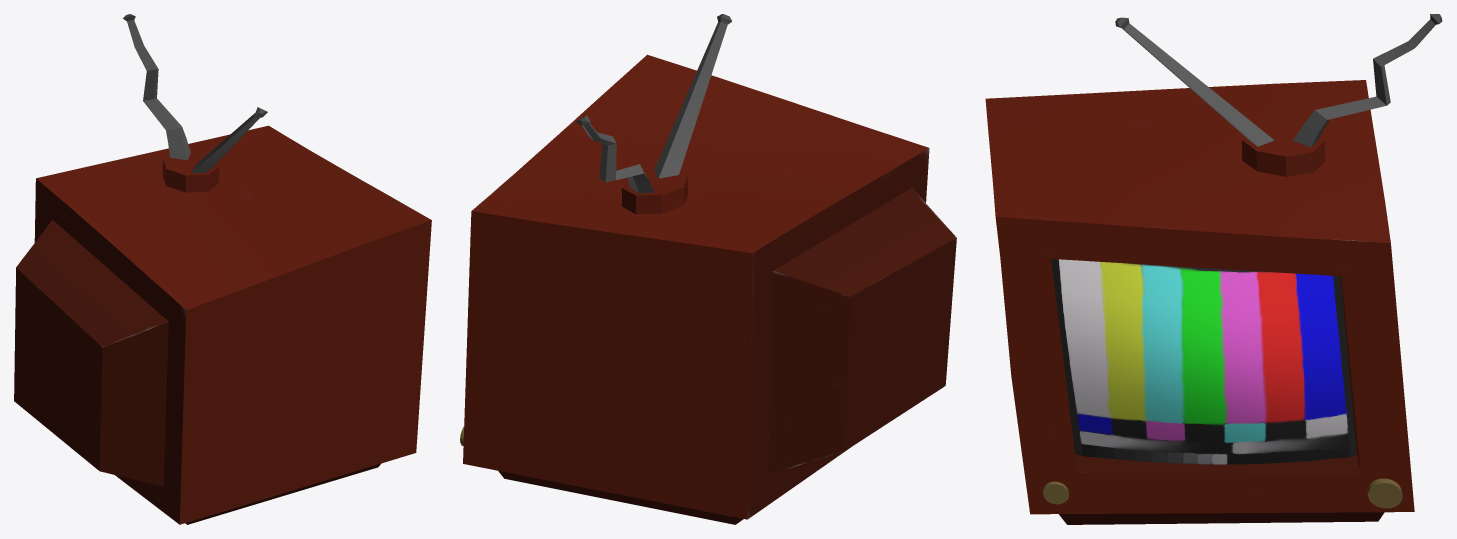
The model's file is Interactible_TV.fbx.
The picture shows the model from 3 angles, left to right: view 1: azimuth 30°, elevation 25°; view 2: azimuth 150°, elevation 25°; view 3: azimuth 270°, elevation 25°; orthographic projection. The views are drawn at different scales.
Parts seen in each view (by area): view 1: TV1; view 2: TV1; view 3: TV1.
Boxes of the visible parts, x1,y1,x2,y2 form: TV1: (14,14,431,524); TV1: (460,14,956,524); TV1: (985,14,1442,524).
Bounding box in the file's own units: 61.29 × 68.61 × 62.09.
